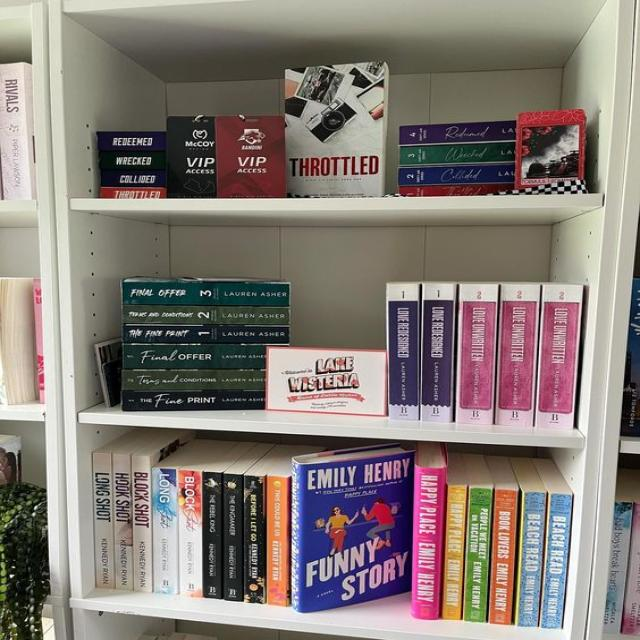book: (536, 285, 583, 429), (494, 284, 540, 427), (455, 284, 499, 424), (410, 466, 446, 619), (386, 283, 421, 420), (422, 284, 456, 422), (540, 494, 572, 629), (123, 280, 290, 305), (487, 488, 517, 625), (517, 492, 547, 626), (604, 502, 634, 634), (463, 487, 492, 622), (122, 343, 266, 369), (151, 468, 178, 595), (442, 485, 466, 619), (121, 305, 290, 324), (121, 370, 266, 391), (121, 325, 289, 343), (177, 471, 201, 596), (92, 453, 114, 588), (399, 121, 516, 146), (112, 454, 133, 590), (123, 391, 265, 411), (243, 475, 265, 603), (399, 143, 514, 167), (267, 477, 288, 606), (131, 456, 151, 591), (223, 474, 243, 601), (398, 165, 515, 186), (202, 472, 221, 599), (399, 184, 514, 196)
